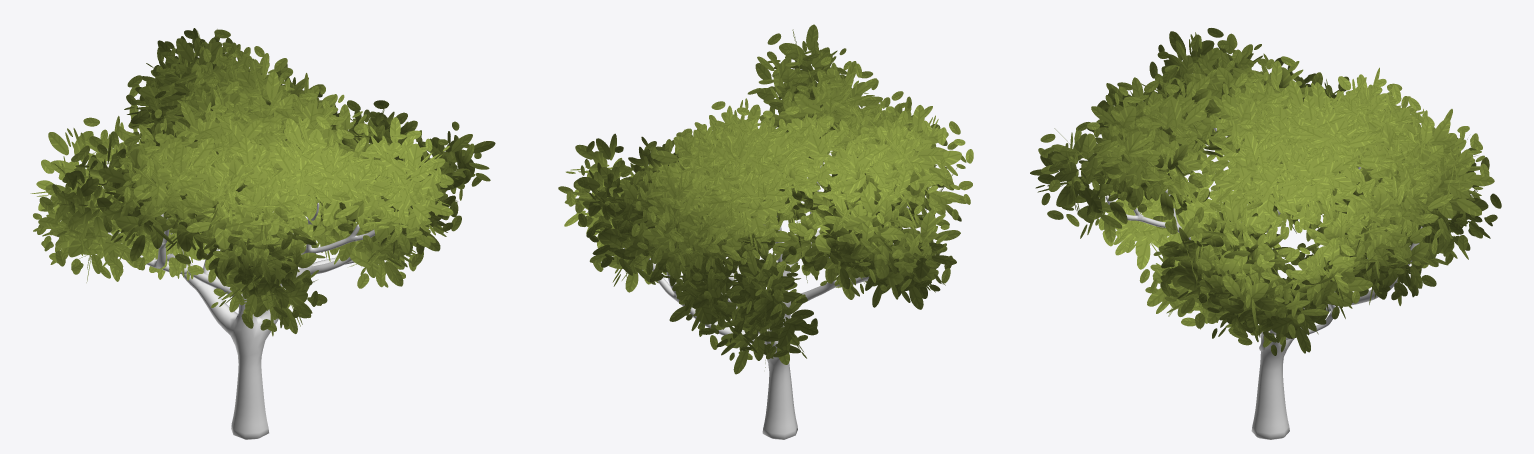
File: arvore1_subdv.fbx
The picture shows the model from 3 angles, left to right: view 1: azimuth 30°, elevation 25°; view 2: azimuth 150°, elevation 25°; view 3: azimuth 270°, elevation 25°; orthographic projection. The views are drawn at different scales.
Visible parts, largest first — view 1: copa_1, Tronco_1; view 2: copa_1, Tronco_1; view 3: copa_1, Tronco_1.
Part boxes in pixels (x1,y1,x2,y2): copa_1: [30, 28, 495, 336]; Tronco_1: [108, 202, 374, 439]; copa_1: [558, 24, 973, 374]; Tronco_1: [624, 162, 909, 439]; copa_1: [1030, 28, 1501, 355]; Tronco_1: [1105, 128, 1422, 439].
Bounding box in the file's own units: 4901 × 3945 × 4749.
